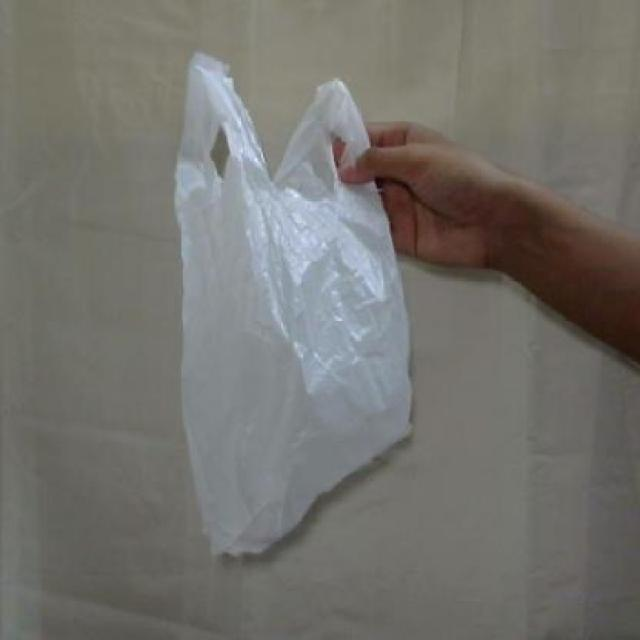Plastic: (164, 37, 424, 571)
